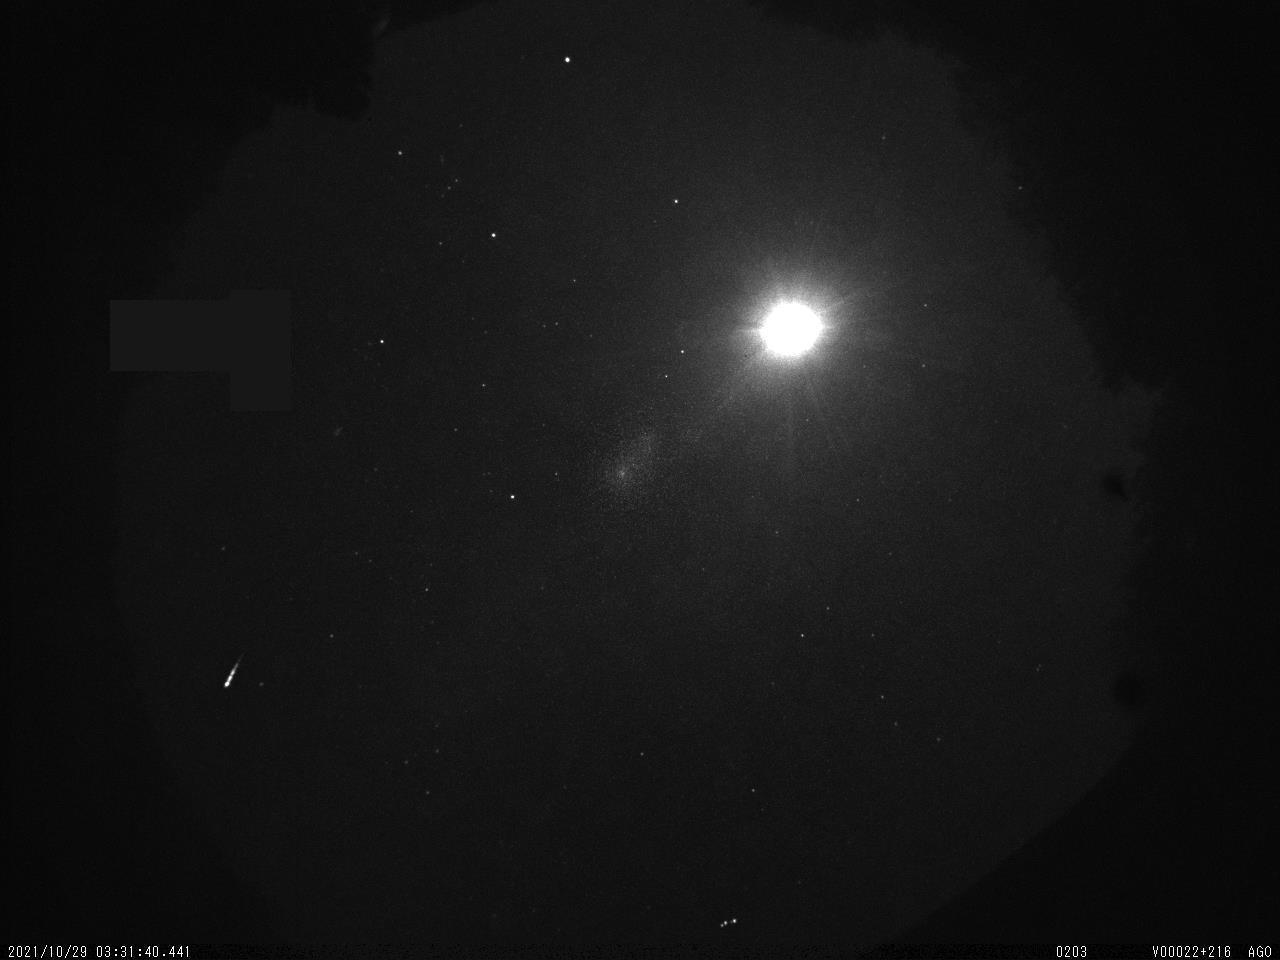Meteor: (220, 652, 244, 690)
